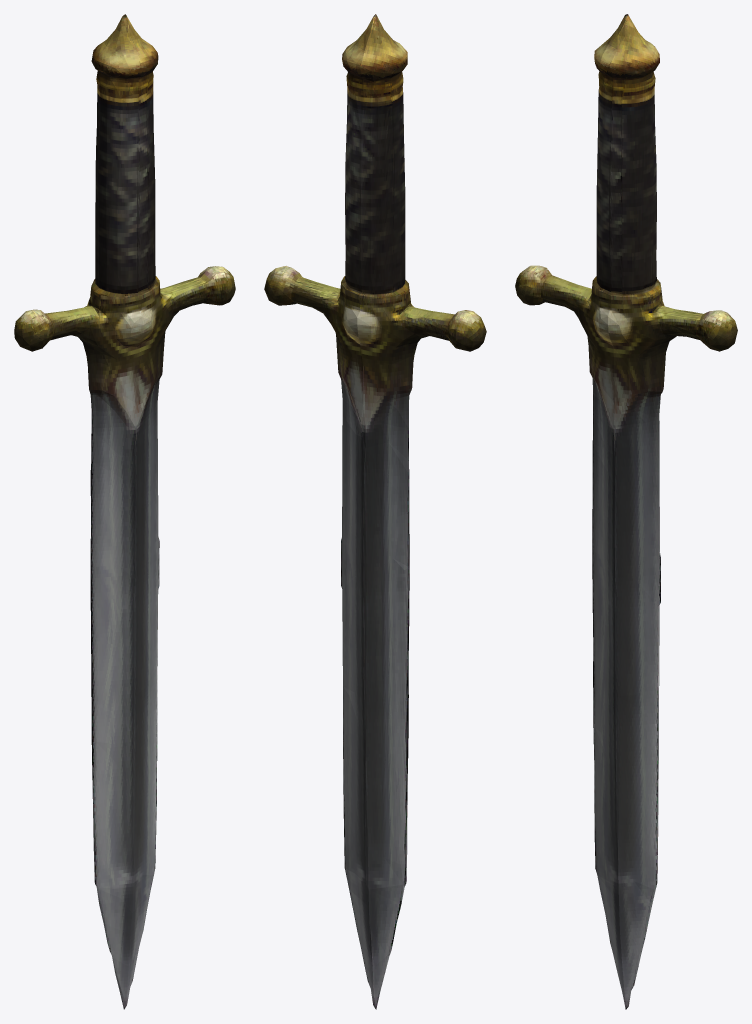
The model's file is IronDagger.fbx.
3 renders of one model, left to right at view 1: azimuth 30°, elevation 25°; view 2: azimuth 150°, elevation 25°; view 3: azimuth 330°, elevation 25°, orthographic.
Visible parts, largest first — view 1: world; view 2: world; view 3: world.
Boxes of the visible parts, box(x1,y1,x2,y2) form: world: box(14, 14, 235, 1009); world: box(264, 14, 486, 1009); world: box(515, 14, 737, 1009).
Bounding box in the file's own units: 22.83 × 99.88 × 6.7.
Materials: 1 (1 with a texture image).
